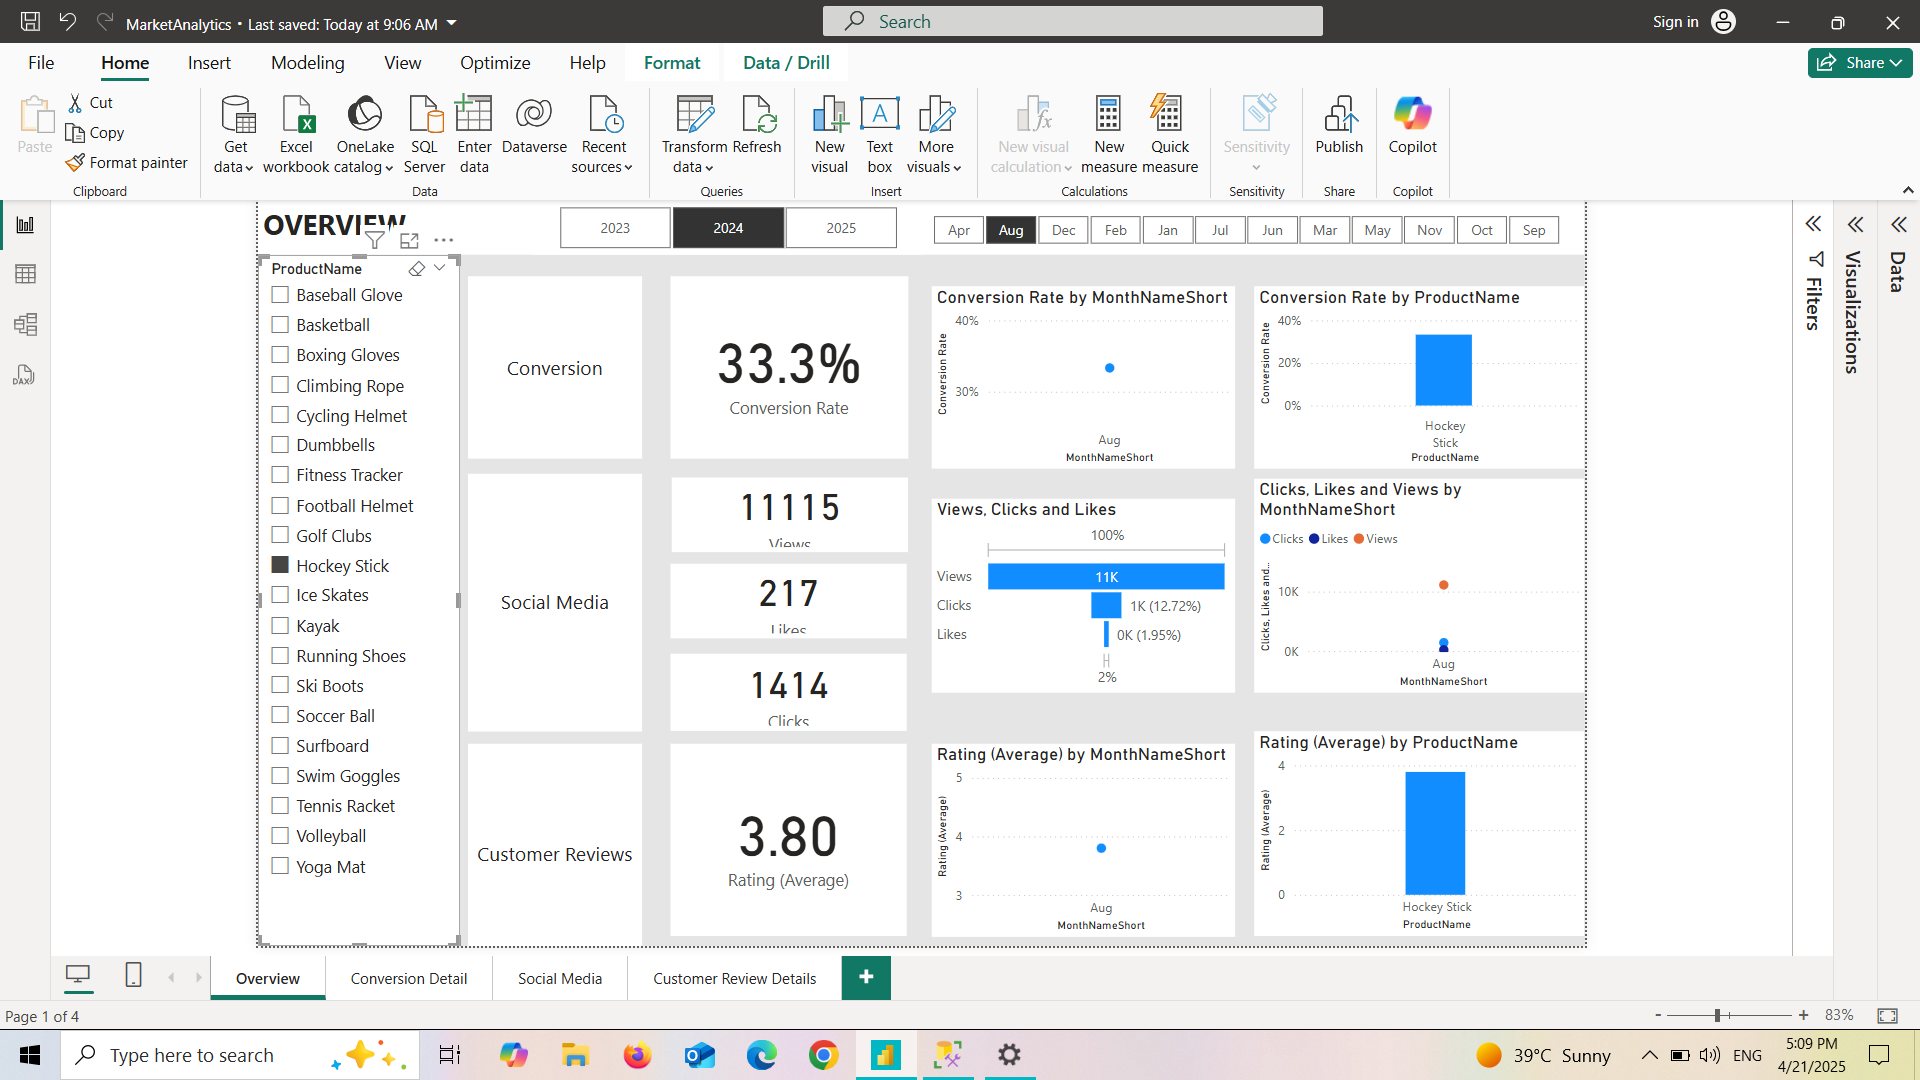

The dashboard page shown, as its layout file describes it:
{"tool":"powerbi","page":{"name":"Overview","canvas":[1280,720],"ordinal":0},"visuals":[{"type":"textbox","box":[0,0,1280,53.1],"z":0},{"type":"slicer","fields":{"Values":["dm_products.ProductName"]},"box":[0,53.1,194.2,667.2],"z":1000},{"type":"textbox","box":[202.7,73.6,167.7,176.1],"z":2000},{"type":"textbox","box":[202.7,264.2,167.7,248.5],"z":3000},{"type":"textbox","box":[202.7,524.8,167.7,195.4],"z":4000},{"type":"card","fields":{"Values":["_Calculations.Conversion Rate"]},"box":[398.1,73.6,229.2,176.1],"z":5000},{"type":"card","fields":{"Values":["_Calculations.Views"]},"box":[399.3,267.8,228,72.4],"z":6000},{"type":"card","fields":{"Values":["_Calculations.Likes"]},"box":[398.1,351.1,228,72.4],"z":7000},{"type":"card","fields":{"Values":["_Calculations.Clicks"]},"box":[398.1,437.9,228,74.8],"z":8000},{"type":"card","fields":{"Values":["_Calculations.Rating (Average)"]},"box":[398.1,524.8,228,185.8],"z":9000},{"type":"slicer","fields":{"Values":["Calendar.Year"]},"box":[265.4,0,375.2,53.1],"z":10000},{"type":"slicer","fields":{"Values":["Calendar.MonthNameShort"]},"box":[626.1,8.4,653.9,36.2],"z":11000},{"type":"clusteredColumnChart","fields":{"Category":["dm_products.ProductName"],"Y":["_Calculations.Conversion Rate"]},"box":[961.5,83.2,318.5,176.1],"z":12000},{"type":"lineChart","fields":{"Y":["_Calculations.Conversion Rate"],"Category":["Calendar.MonthNameShort"]},"box":[650.3,83.2,293.2,176.1],"z":13000},{"type":"lineChart","fields":{"Category":["Calendar.MonthNameShort"],"Y":["_Calculations.Clicks","_Calculations.Likes","_Calculations.Views"]},"box":[961.5,269,318.5,206.3],"z":14000},{"type":"funnel","fields":{"Y":["_Calculations.Views","_Calculations.Clicks","_Calculations.Likes"]},"box":[650.3,288.3,293.2,187],"z":15000},{"type":"lineChart","fields":{"Category":["Calendar.MonthNameShort"],"Y":["_Calculations.Rating (Average)"]},"box":[650,525,293,186],"z":16000},{"type":"clusteredColumnChart","fields":{"Category":["dm_products.ProductName"],"Y":["_Calculations.Rating (Average)"]},"box":[961.5,512.7,318.5,197.9],"z":17000}]}

Visuals, with their boxes on the page's 1280x720 design canvas (x1, y1, x2, y2). These are canvas units, not pixel positions in the 1920x1080 screenshot, which may show the page scaled, cropped or inside an application window:
textbox: [x1=0, y1=0, x2=1280, y2=53]
slicer - dm_products.ProductName: [x1=0, y1=53, x2=194, y2=720]
textbox: [x1=203, y1=74, x2=370, y2=250]
textbox: [x1=203, y1=264, x2=370, y2=513]
textbox: [x1=203, y1=525, x2=370, y2=720]
card - _Calculations.Conversion Rate: [x1=398, y1=74, x2=627, y2=250]
card - _Calculations.Views: [x1=399, y1=268, x2=627, y2=340]
card - _Calculations.Likes: [x1=398, y1=351, x2=626, y2=424]
card - _Calculations.Clicks: [x1=398, y1=438, x2=626, y2=513]
card - _Calculations.Rating (Average): [x1=398, y1=525, x2=626, y2=711]
slicer - Calendar.Year: [x1=265, y1=0, x2=641, y2=53]
slicer - Calendar.MonthNameShort: [x1=626, y1=8, x2=1280, y2=45]
clusteredColumnChart - dm_products.ProductName x _Calculations.Conversion Rate: [x1=962, y1=83, x2=1280, y2=259]
lineChart - _Calculations.Conversion Rate x Calendar.MonthNameShort: [x1=650, y1=83, x2=944, y2=259]
lineChart - Calendar.MonthNameShort x _Calculations.Clicks: [x1=962, y1=269, x2=1280, y2=475]
funnel - _Calculations.Views x _Calculations.Clicks: [x1=650, y1=288, x2=944, y2=475]
lineChart - Calendar.MonthNameShort x _Calculations.Rating (Average): [x1=650, y1=525, x2=943, y2=711]
clusteredColumnChart - dm_products.ProductName x _Calculations.Rating (Average): [x1=962, y1=513, x2=1280, y2=711]
